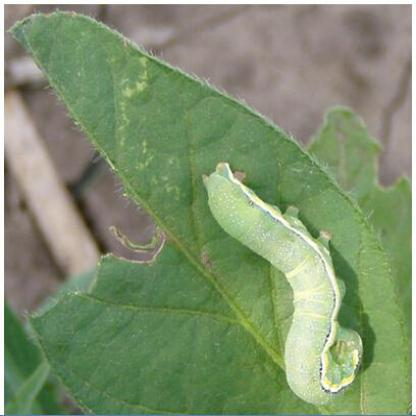armyworm: (205, 155, 376, 407)
